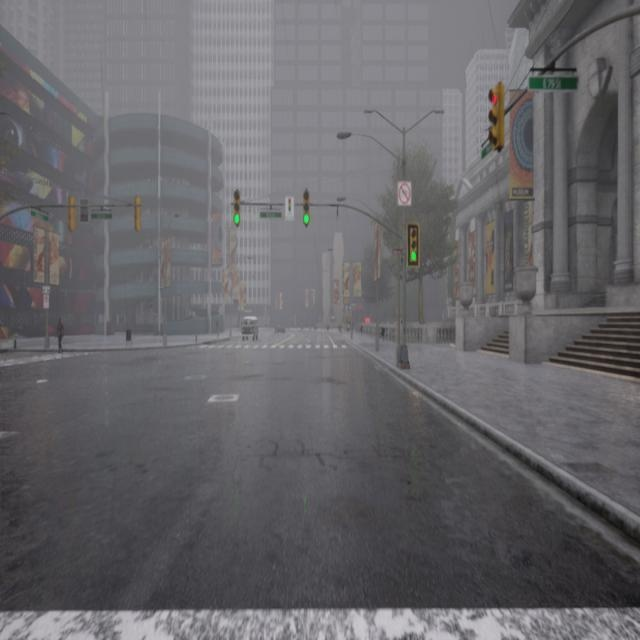bien_chi_dan: (484, 90, 506, 150), (233, 196, 249, 230), (404, 228, 418, 264), (301, 194, 314, 230), (396, 182, 412, 207), (490, 91, 500, 108), (302, 216, 312, 228), (234, 214, 242, 228), (410, 252, 414, 262)
